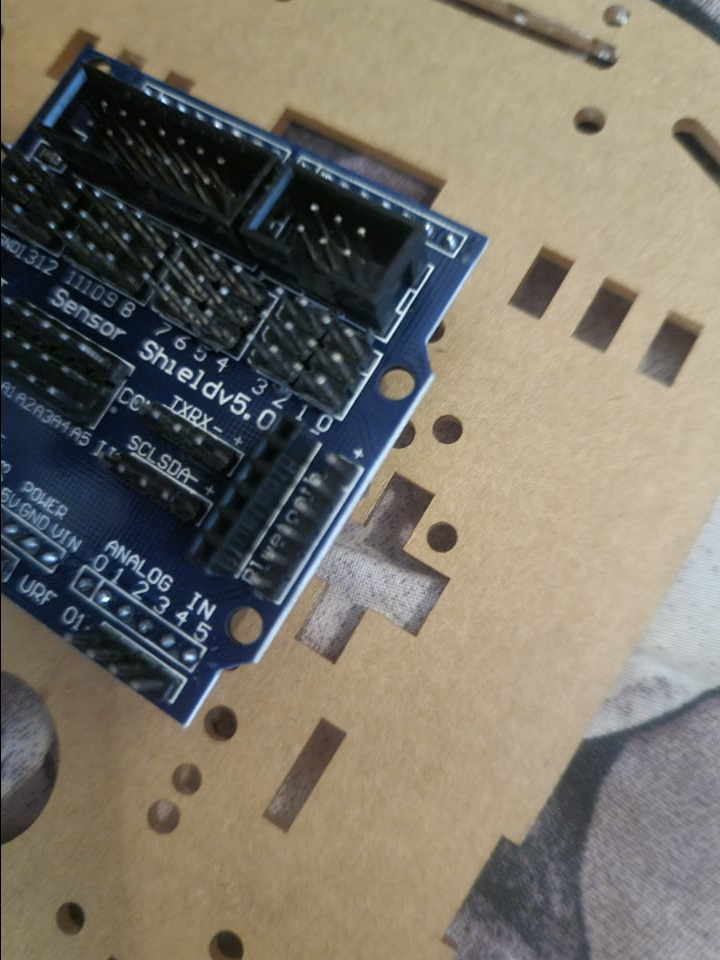5V EXPANSION: (0, 41, 488, 729)
